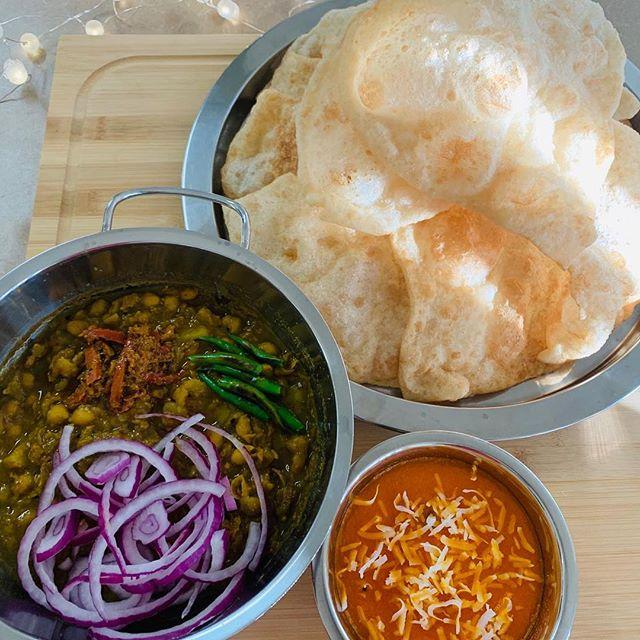Chole: (7, 238, 324, 630)
